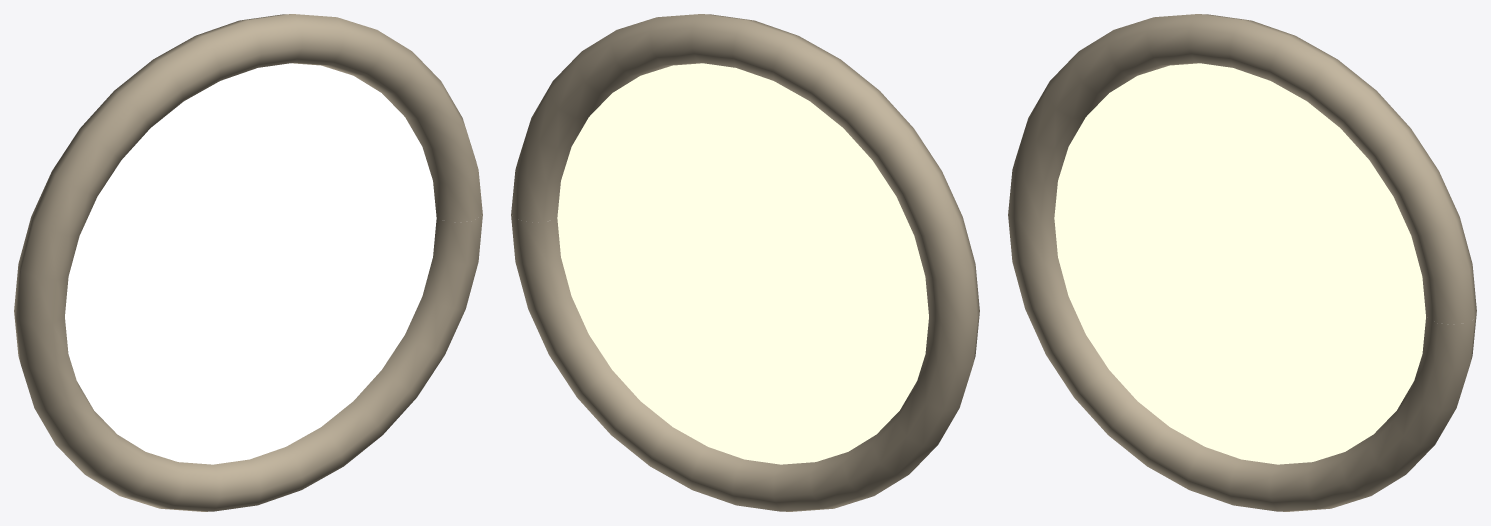
Rendered from launchworks.glb.
The picture shows the model from 3 angles, left to right: view 1: azimuth 30°, elevation 25°; view 2: azimuth 150°, elevation 25°; view 3: azimuth 330°, elevation 25°; orthographic projection.
Visible parts, largest first — view 1: LOD0._color_fff3d2_emissive_ffd38c_, LOD0._color_rgb_190_177_154_emissive_n; view 2: LOD0._color_fff3d2_emissive_ffd38c_, LOD0._color_rgb_190_177_154_emissive_n; view 3: LOD0._color_fff3d2_emissive_ffd38c_, LOD0._color_rgb_190_177_154_emissive_n.
Part boxes in pixels (x1=…): LOD0._color_fff3d2_emissive_ffd38c_: x1=65, y1=63, x2=436, y2=464; LOD0._color_rgb_190_177_154_emissive_n: x1=14, y1=14, x2=482, y2=511; LOD0._color_fff3d2_emissive_ffd38c_: x1=557, y1=63, x2=928, y2=464; LOD0._color_rgb_190_177_154_emissive_n: x1=511, y1=14, x2=979, y2=511; LOD0._color_fff3d2_emissive_ffd38c_: x1=1054, y1=63, x2=1425, y2=464; LOD0._color_rgb_190_177_154_emissive_n: x1=1008, y1=14, x2=1476, y2=511.
Size of what is drawn, in the model's own units: 488 by 488 by 47.99.
